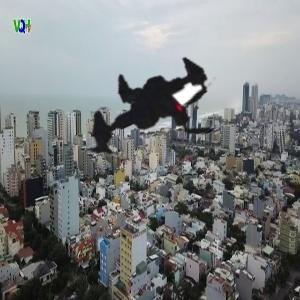drone: (49, 14, 261, 226)
